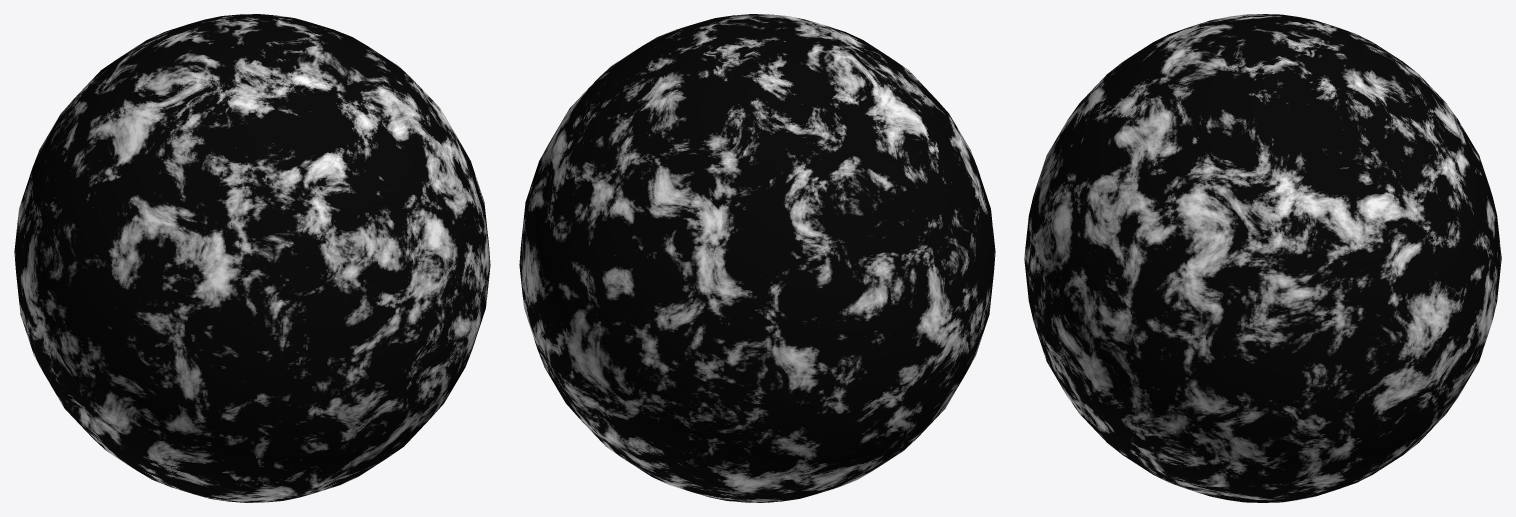
File: TerrestrialWorld_Root.fbx
3 views of the same model, side by side, from view 1: azimuth 30°, elevation 25°; view 2: azimuth 150°, elevation 25°; view 3: azimuth 270°, elevation 25° (orthographic).
Visible parts, largest first — view 1: TerrestrialWorld_Clouds; view 2: TerrestrialWorld_Clouds; view 3: TerrestrialWorld_Clouds.
Boxes of the visible parts, bbox=[...] form: TerrestrialWorld_Clouds: bbox=[14, 14, 490, 502]; TerrestrialWorld_Clouds: bbox=[519, 14, 995, 502]; TerrestrialWorld_Clouds: bbox=[1024, 14, 1501, 502].
Bounding box in the file's own units: 196 × 202 × 196.
